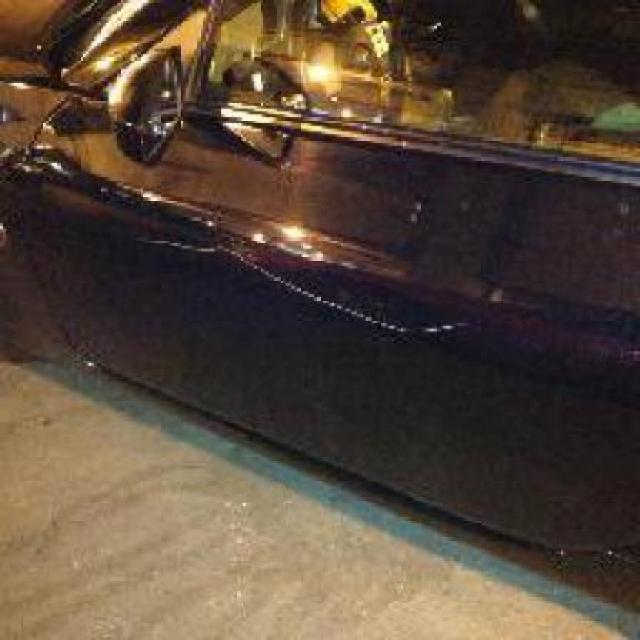dent-or-scratch: (138, 203, 484, 362)
